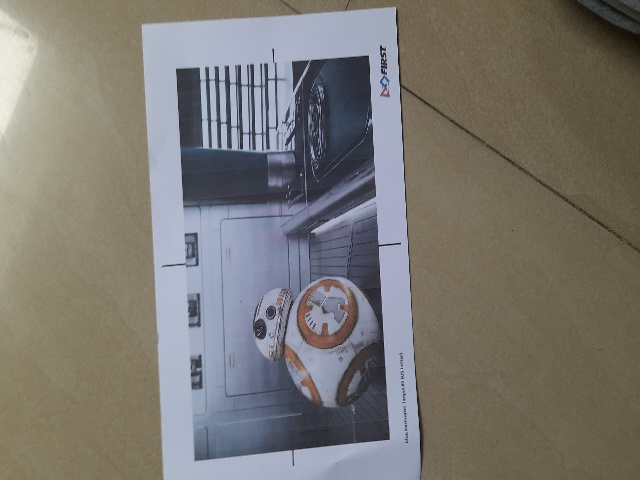bpt1: (149, 28, 419, 478)
